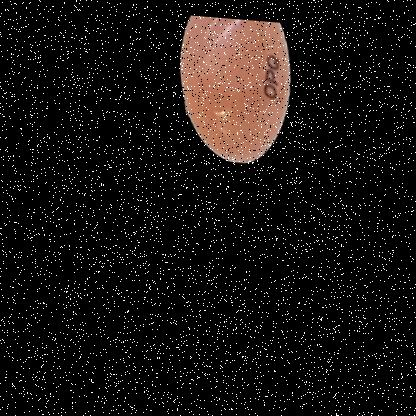opiqutan: (146, 10, 345, 198)
